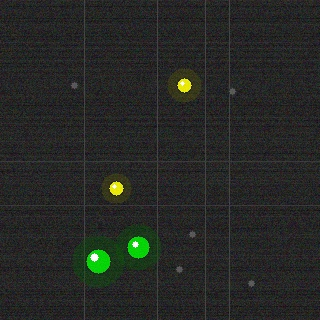green_normal: (84, 247, 112, 275), (125, 234, 151, 260)
yellow_warning: (175, 76, 193, 94), (107, 179, 125, 197)
